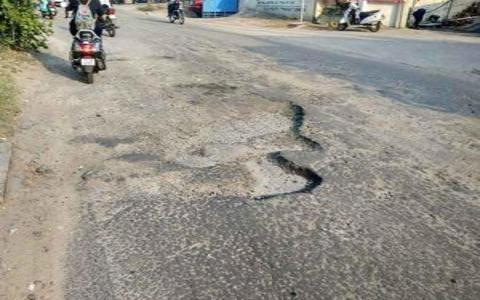patchy roads: (94, 78, 345, 221)
